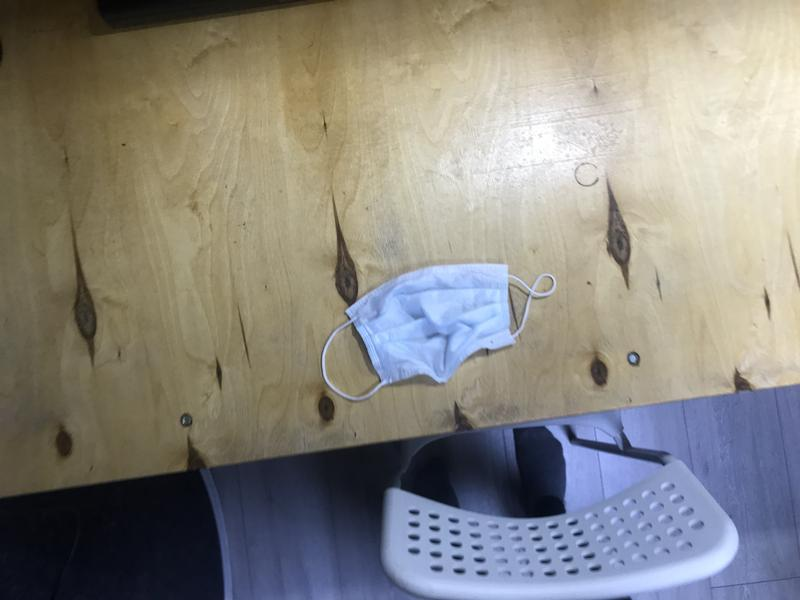medical_mask: (320, 266, 557, 402)
